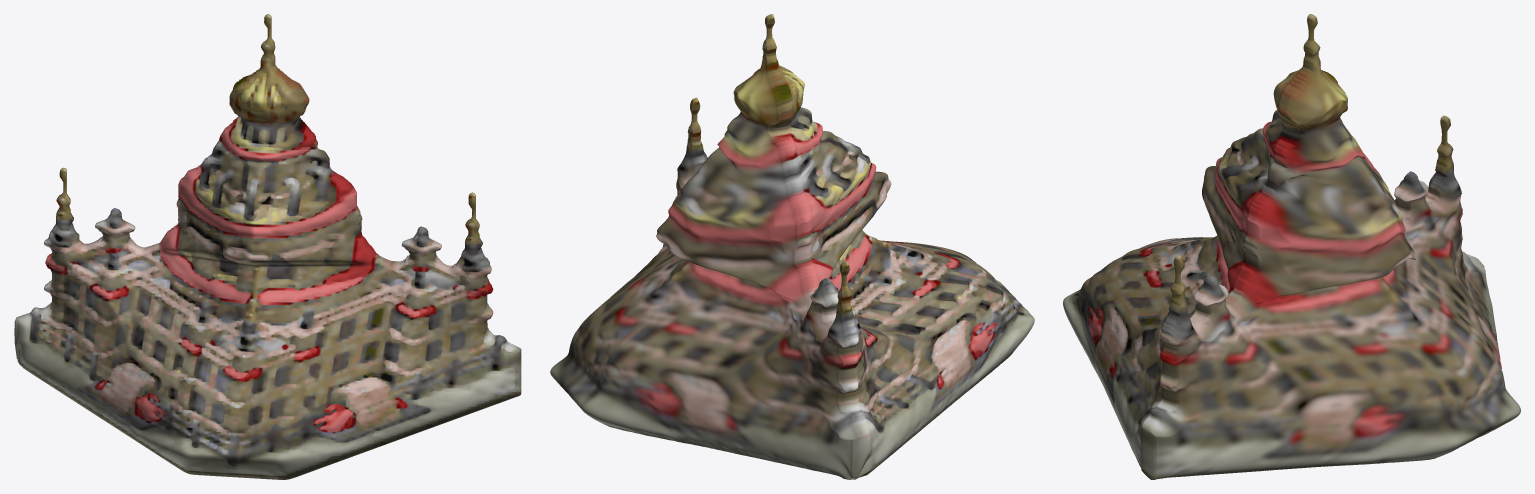
The model's file is soviet_battle_lab.glb.
The picture shows the model from 3 angles, left to right: view 1: azimuth 30°, elevation 25°; view 2: azimuth 150°, elevation 25°; view 3: azimuth 270°, elevation 25°; orthographic projection. The views are drawn at different scales.
Visible parts, largest first — view 1: soviet_battle_lab; view 2: soviet_battle_lab; view 3: soviet_battle_lab.
Part boxes in pixels (box(x1,y1,x2,y2)): soviet_battle_lab: box(14, 14, 521, 479); soviet_battle_lab: box(550, 14, 1034, 479); soviet_battle_lab: box(1063, 14, 1520, 479).
Size of the model in its own units: 1.59 by 1.55 by 1.71.
